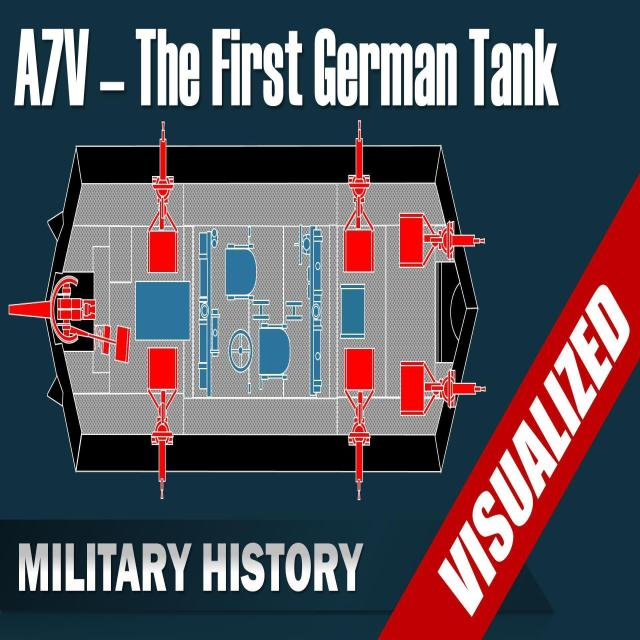Tanks: (17, 136, 476, 509)
